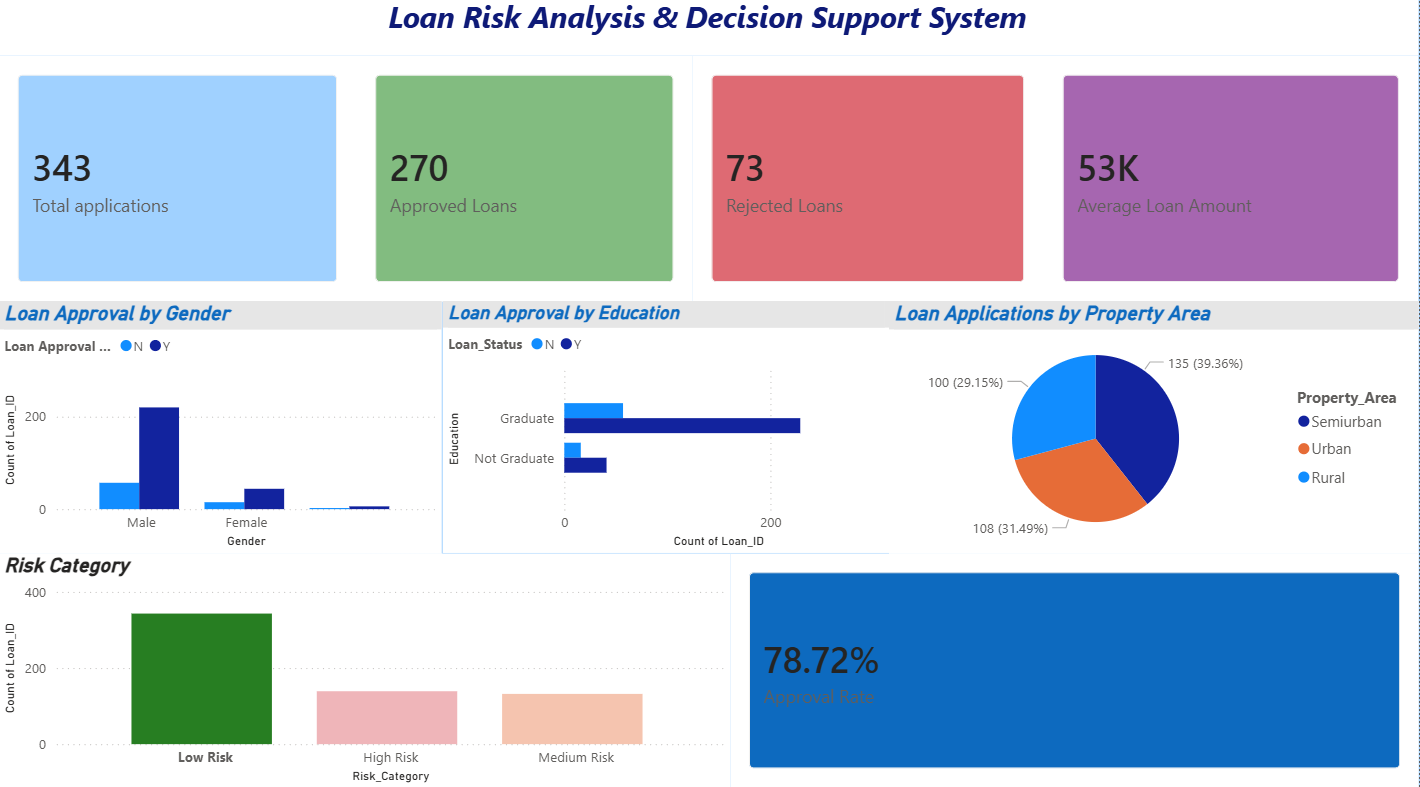

This screenshot's page, from the dashboard's own definition file:
{"tool":"powerbi","page":{"name":"Page 1","canvas":[1280,720],"ordinal":0},"visuals":[{"type":"cardVisual","fields":{"Data":["CountNonNull(train_u6lujuX_CVtuZ9i.Loan_ID)"]},"box":[0,58.7,322.8,221.3],"z":0},{"type":"cardVisual","fields":{"Data":["CountNonNull(train_u6lujuX_CVtuZ9i.Loan_ID)"]},"box":[322.8,58.7,303.3,221.3],"z":1000},{"type":"cardVisual","fields":{"Data":["CountNonNull(train_u6lujuX_CVtuZ9i.Loan_ID)"]},"box":[626.1,58.7,316.7,221.3],"z":2000},{"type":"cardVisual","fields":{"Data":["Sum(train_u6lujuX_CVtuZ9i.LoanAmount)"]},"box":[942.8,58.7,337.5,221.3],"z":3000},{"type":"clusteredColumnChart","title":"Loan Approval by Gender","fields":{"Category":["train_u6lujuX_CVtuZ9i.Gender"],"Y":["CountNonNull(train_u6lujuX_CVtuZ9i.Loan_ID)"],"Series":["train_u6lujuX_CVtuZ9i.Loan_Status"]},"box":[0,279.5,399,227.7],"z":4000},{"type":"clusteredBarChart","title":"Loan Approval by Education","fields":{"Category":["train_u6lujuX_CVtuZ9i.Education"],"Y":["CountNonNull(train_u6lujuX_CVtuZ9i.Loan_ID)"],"Series":["train_u6lujuX_CVtuZ9i.Loan_Status"]},"box":[399,279.5,403.5,227.7],"z":5000},{"type":"pieChart","title":"   Loan Applications by Property Area","fields":{"Category":["train_u6lujuX_CVtuZ9i.Property_Area"],"Y":["CountNonNull(train_u6lujuX_CVtuZ9i.Loan_ID)"]},"box":[802.5,279.5,477.9,227.7],"z":6000},{"type":"clusteredColumnChart","title":"Risk Category","fields":{"Category":["train_u6lujuX_CVtuZ9i.Risk_Category"],"Y":["CountNonNull(train_u6lujuX_CVtuZ9i.Loan_ID)"]},"box":[0,507.2,659.4,211.9],"z":7000},{"type":"cardVisual","fields":{"Data":["train_u6lujuX_CVtuZ9i.Approval Rate"]},"box":[659.4,507.2,621,211.9],"z":8000},{"type":"textbox","box":[0,0,1280.3,58.7],"z":9000}]}

Visuals, with their boxes in screenshot pixels (x1, y1, x2, y2), scaled from the page's 1280x720 canvas onto the 1420x787 screenshot:
cardVisual - CountNonNull(train_u6lujuX_CVtuZ9i.Loan_ID): <region>0, 64, 358, 306</region>
cardVisual - CountNonNull(train_u6lujuX_CVtuZ9i.Loan_ID): <region>358, 64, 695, 306</region>
cardVisual - CountNonNull(train_u6lujuX_CVtuZ9i.Loan_ID): <region>695, 64, 1046, 306</region>
cardVisual - Sum(train_u6lujuX_CVtuZ9i.LoanAmount): <region>1046, 64, 1419, 306</region>
"Loan Approval by Gender" clusteredColumnChart: <region>0, 306, 443, 554</region>
"Loan Approval by Education" clusteredBarChart: <region>443, 306, 890, 554</region>
"   Loan Applications by Property Area" pieChart: <region>890, 306, 1419, 554</region>
"Risk Category" clusteredColumnChart: <region>0, 554, 732, 786</region>
cardVisual - train_u6lujuX_CVtuZ9i.Approval Rate: <region>732, 554, 1419, 786</region>
textbox: <region>0, 0, 1419, 64</region>
